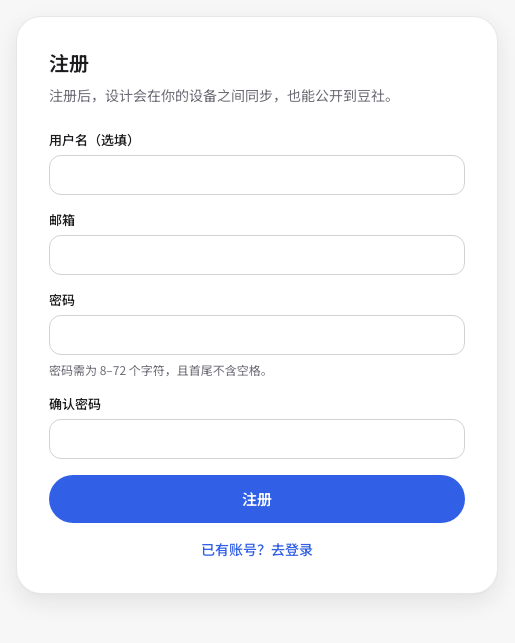
it: register 页 › 两次密码不一致本地拦截（spec E31 客户端校验）
Type "a@b.com" into the field labelled "邮箱" at x=257, y=255, box top-left (49, 235), bottom-right (465, 275)
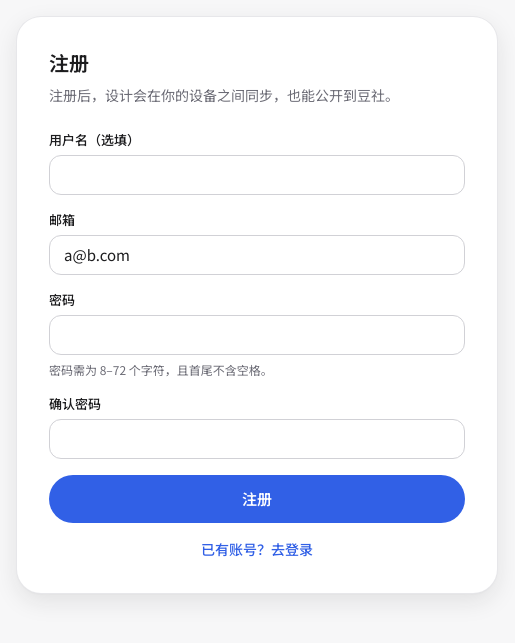
Type "12345678" into the password field labelled "密码" at x=257, y=335, box top-left (49, 315), bottom-right (465, 355)
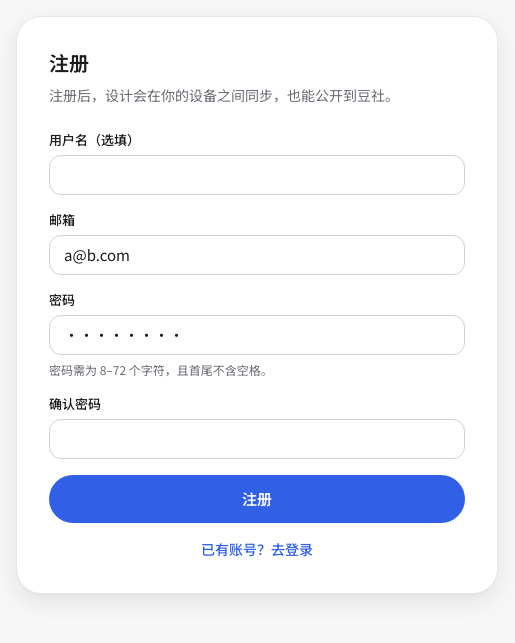
Type "87654321" into the password field labelled "确认密码" at x=257, y=439, box top-left (49, 419), bottom-right (465, 459)
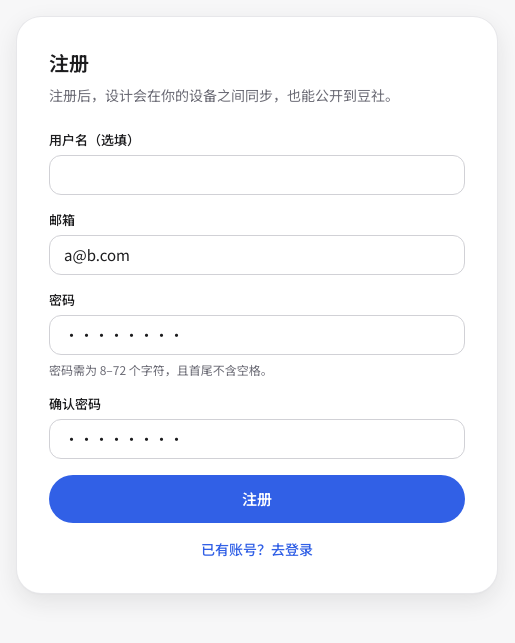
Click the button "注册" at x=257, y=499, box top-left (49, 475), bottom-right (465, 523)
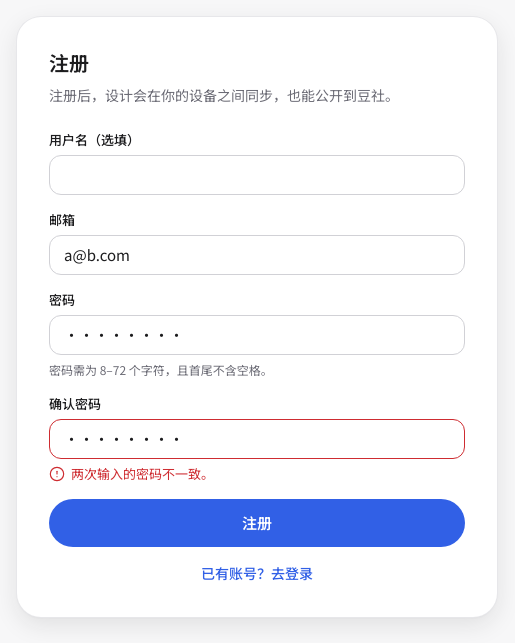
Check: the message reads "两次输入的密码不一致。", box top-left (71, 466), bottom-right (214, 482)
